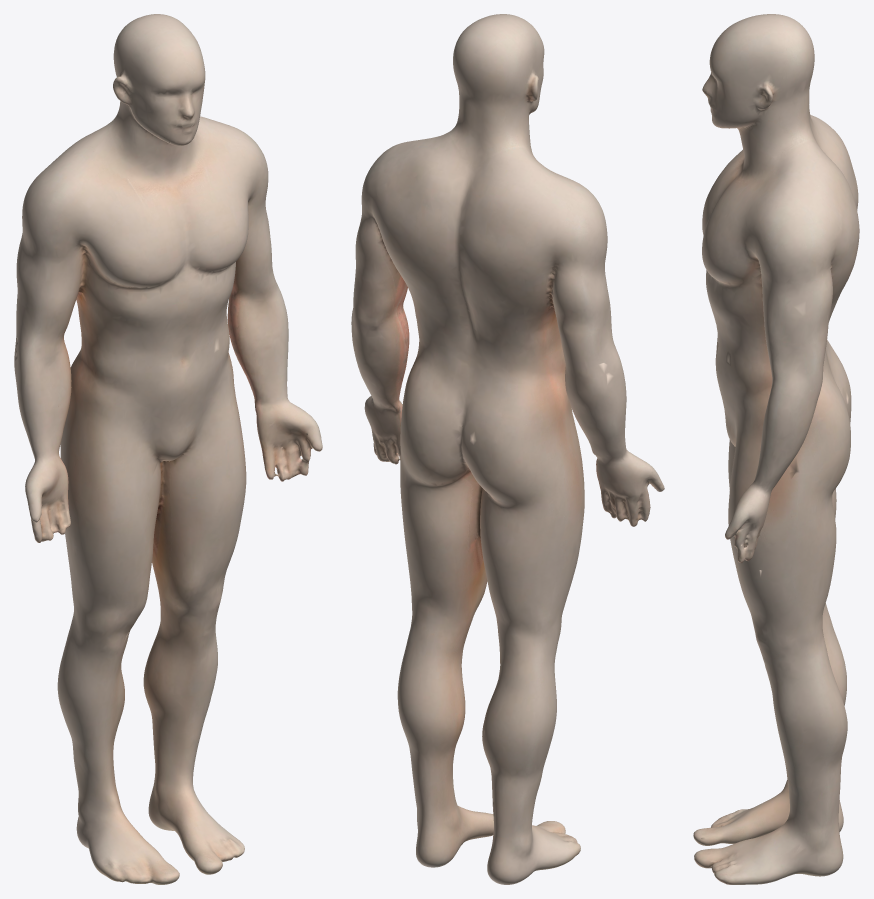
The model's file is model3d_lp_opt.glb.
3 views of the same model, side by side, from view 1: azimuth 30°, elevation 25°; view 2: azimuth 150°, elevation 25°; view 3: azimuth 270°, elevation 25° (orthographic).
Bounding box in the file's own units: 0.7349 × 2 × 0.3599.
1 material, 1 textured.
